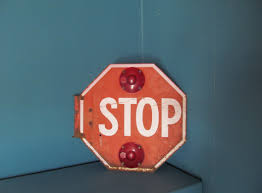Stop: (76, 54, 189, 172)
